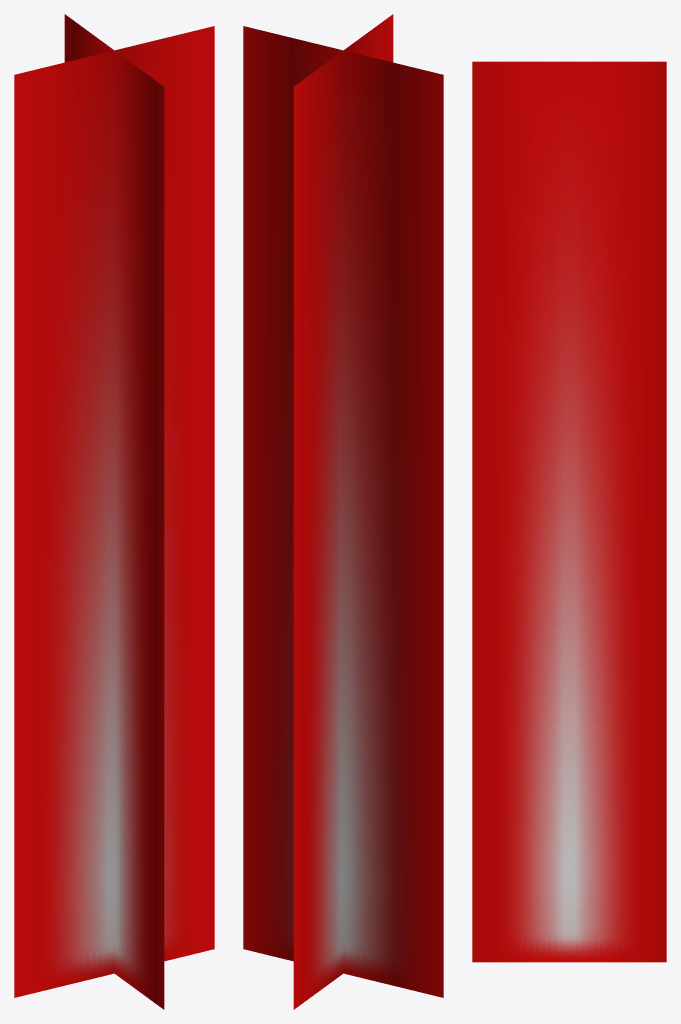
Rendered from flarecrossplane_red.FBX.
3 views of the same model, side by side, from view 1: azimuth 30°, elevation 25°; view 2: azimuth 150°, elevation 25°; view 3: azimuth 270°, elevation 25° (orthographic). The views are drawn at different scales.
Parts seen in each view (by area): view 1: flarecrossplane_red; view 2: flarecrossplane_red; view 3: flarecrossplane_red.
Part boxes in pixels (box(x1,y1,x2,y2)): flarecrossplane_red: box(14, 14, 214, 1009); flarecrossplane_red: box(243, 14, 443, 1009); flarecrossplane_red: box(472, 61, 666, 962).
Bounding box in the file's own units: 40 × 176 × 34.4.
1 material, 1 textured.
